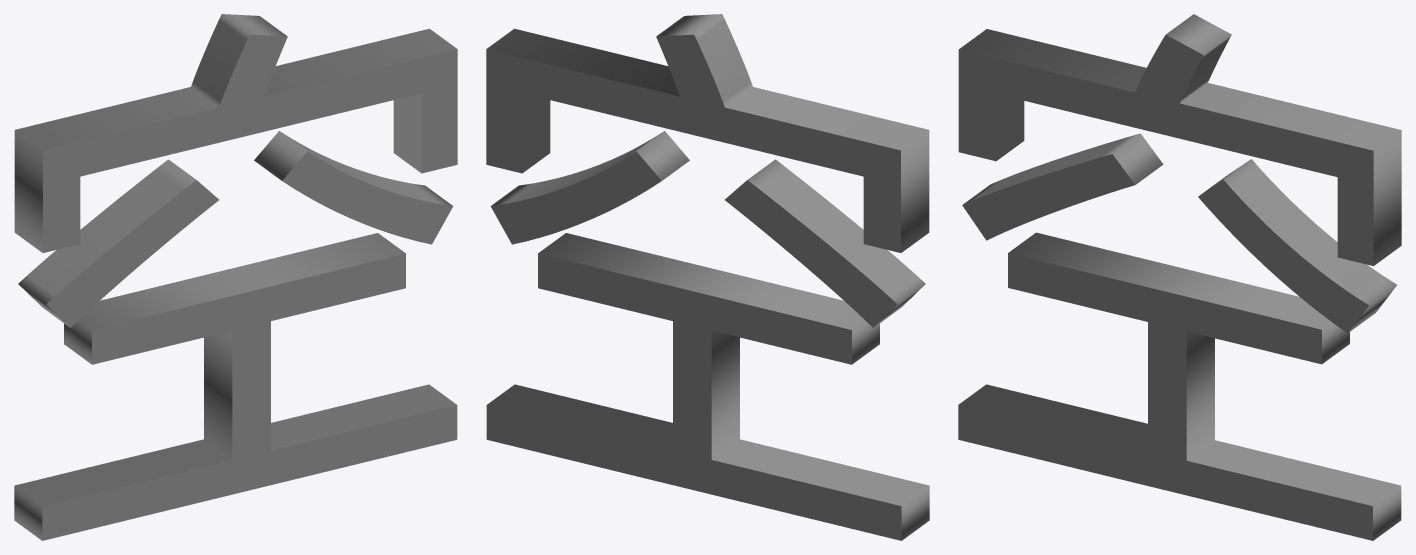
Rendered from title_2.obj.
The picture shows the model from 3 angles, left to right: view 1: azimuth 30°, elevation 25°; view 2: azimuth 150°, elevation 25°; view 3: azimuth 330°, elevation 25°; orthographic projection.
Visible parts, largest first — view 1: title_2; view 2: title_2; view 3: title_2.
Boxes of the visible parts, x1,y1,x2,y2 form: title_2: (14,14,457,540); title_2: (486,14,929,540); title_2: (958,14,1401,540).
Size of the model in its own units: 0.851 by 0.892 by 0.1.
